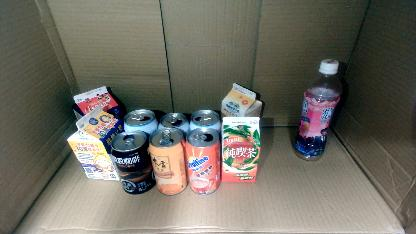Can: (110, 130, 155, 194), (149, 127, 189, 196), (185, 127, 221, 195), (124, 109, 158, 135), (189, 110, 221, 136), (158, 112, 190, 136)
Plastic Bottle: (293, 59, 341, 161)
